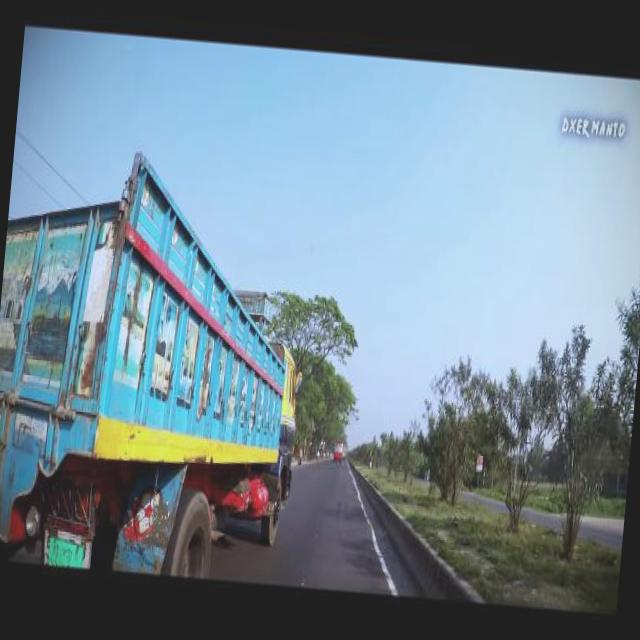bus: (331, 437, 342, 458)
truck: (0, 135, 319, 582)
